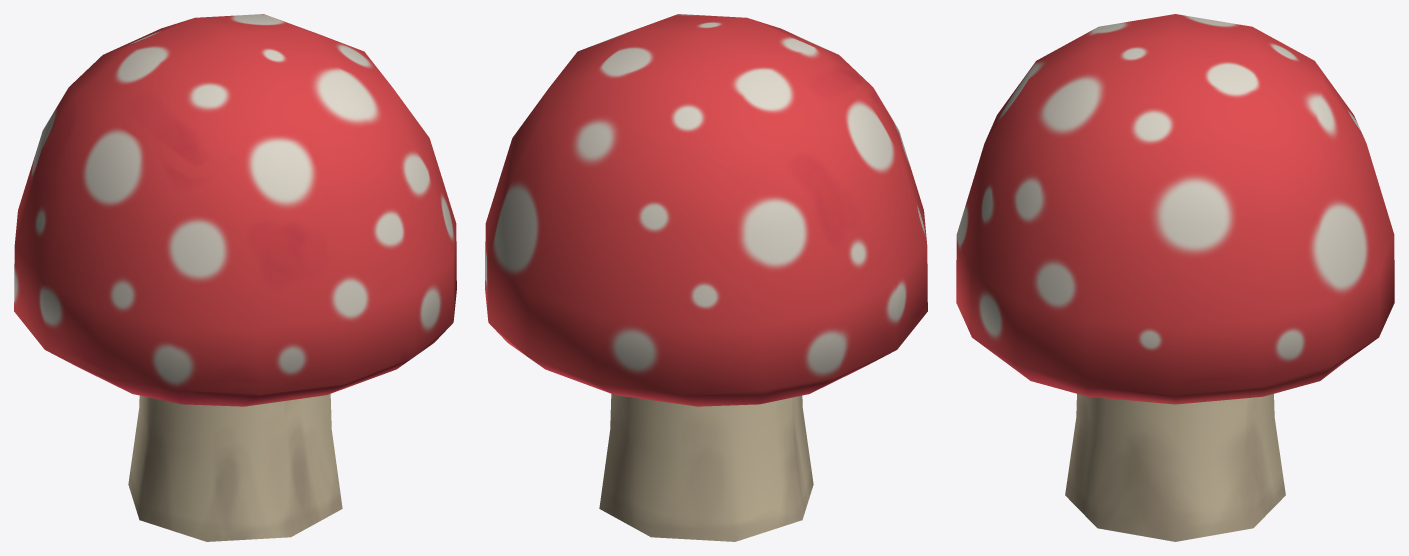
Rendered from Mushroom.fbx.
The picture shows the model from 3 angles, left to right: view 1: azimuth 30°, elevation 25°; view 2: azimuth 150°, elevation 25°; view 3: azimuth 270°, elevation 25°; orthographic projection.
Parts seen in each view (by area): view 1: Cube.002; view 2: Cube.002; view 3: Cube.002.
Part boxes in pixels (x1,y1,x2,y2): Cube.002: [14, 14, 456, 541]; Cube.002: [485, 14, 927, 541]; Cube.002: [956, 14, 1394, 541].
Bounding box in the file's own units: 1.8 × 2.08 × 1.8.
